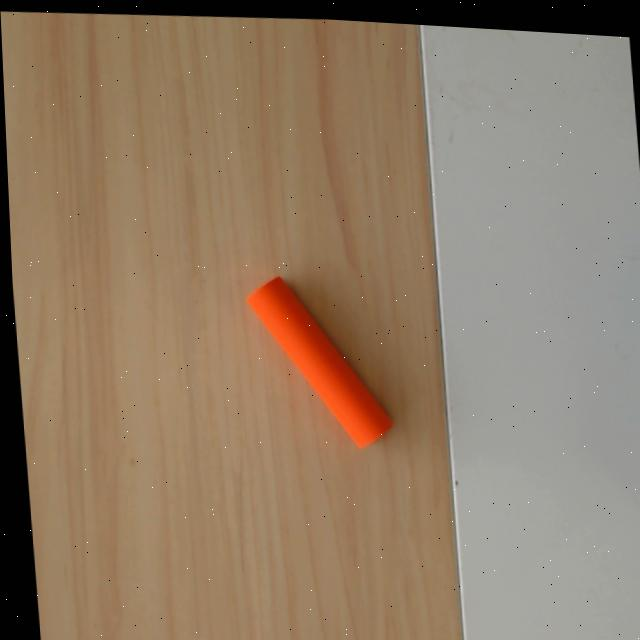Silinder-Jingga-10025: (243, 273, 395, 452)
